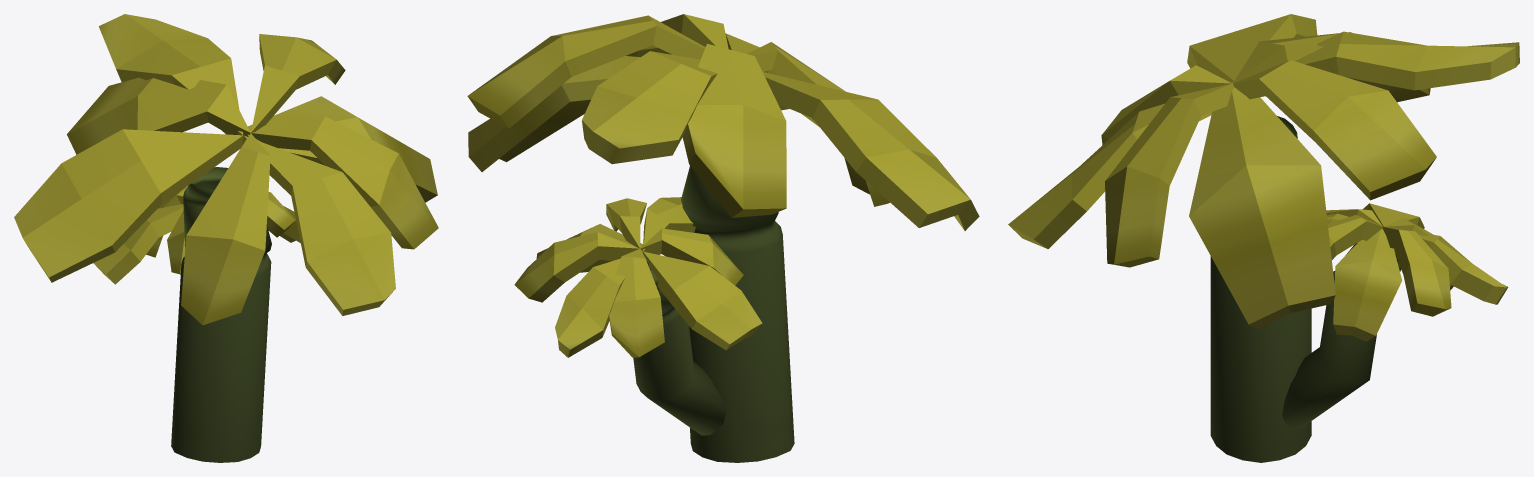
Rendered from ArbustoAmareloDino.glb.
3 views of the same model, side by side, from view 1: azimuth 30°, elevation 25°; view 2: azimuth 150°, elevation 25°; view 3: azimuth 270°, elevation 25° (orthographic). The views are drawn at different scales.
Visible parts, largest first — view 1: ArbustoAmareloDino; view 2: ArbustoAmareloDino; view 3: ArbustoAmareloDino.
Part boxes in pixels (box(x1,y1,x2,y2)): ArbustoAmareloDino: box(14, 14, 438, 462); ArbustoAmareloDino: box(467, 14, 979, 462); ArbustoAmareloDino: box(1008, 14, 1519, 462).
Bounding box in the file's own units: 2.43 × 1.98 × 2.22.
Materials: 1 (1 with a texture image).
